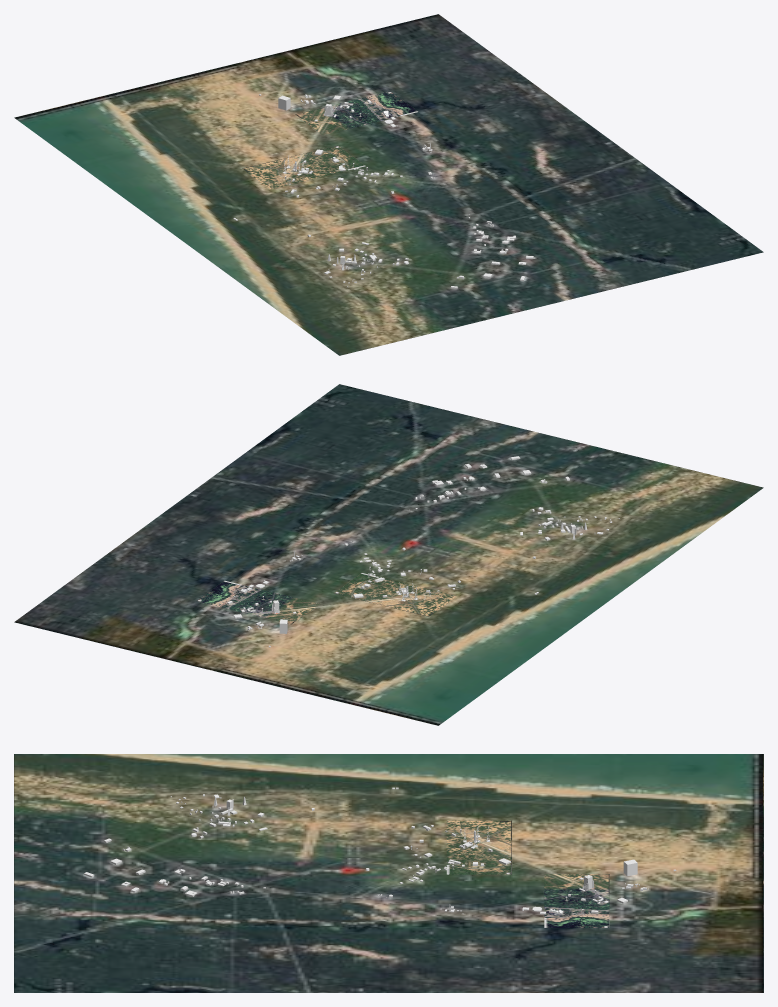
Rendered from launch.glb.
3 views of the same model, one above another, from view 1: azimuth 30°, elevation 25°; view 2: azimuth 150°, elevation 25°; view 3: azimuth 270°, elevation 25° (orthographic). The views are drawn at different scales.
Visible parts, largest first — view 1: Plane001, Plane003, Plane007; view 2: Plane001, Plane003, Plane007; view 3: Plane001, Plane003, Plane007.
Boxes of the visible parts, x1,y1,x2,y2 form: Plane001: (14,14,763,355); Plane003: (242,145,365,189); Plane007: (295,91,418,135); Plane001: (14,384,763,725); Plane003: (334,573,457,616); Plane007: (196,580,319,624); Plane001: (14,754,763,992); Plane003: (446,820,511,874); Plane007: (544,874,609,927).
Size of the model in its own units: 3298 by 95.1 by 4379.
Materials: 11 (9 with a texture image).
